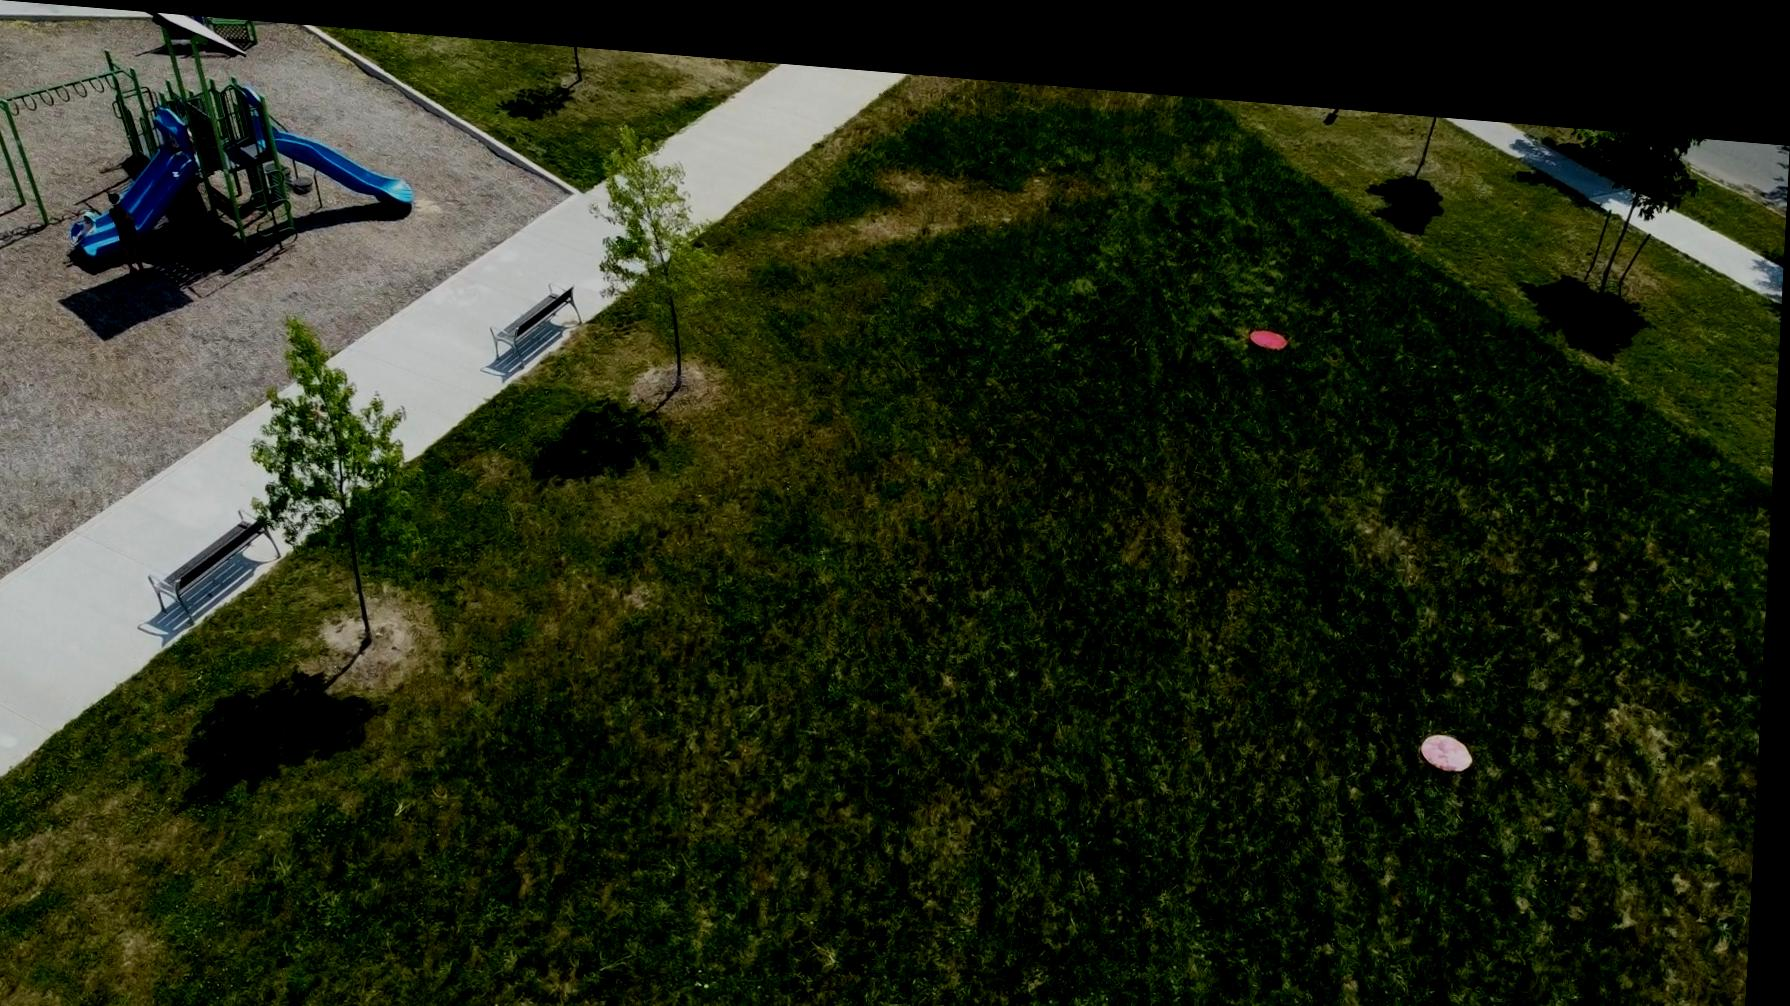Red: (1250, 305, 1292, 331)
Unknown: (1425, 706, 1481, 749)
